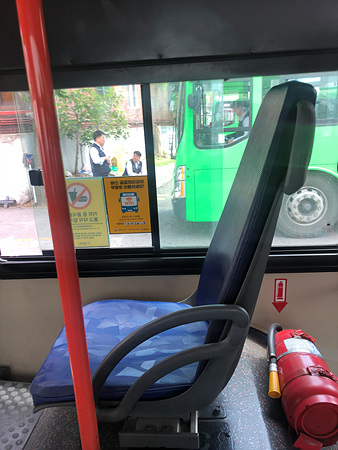seat: (38, 85, 302, 394)
